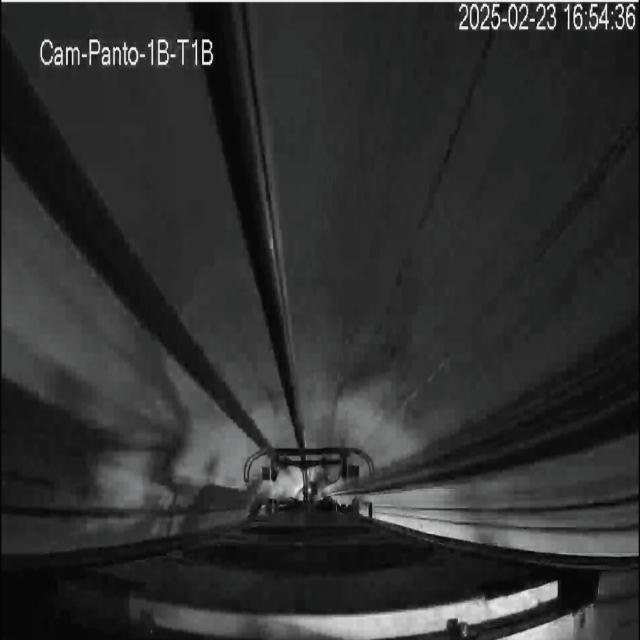Camera Stamp: (38, 32, 221, 69)
Date Stamp: (459, 3, 636, 33)
